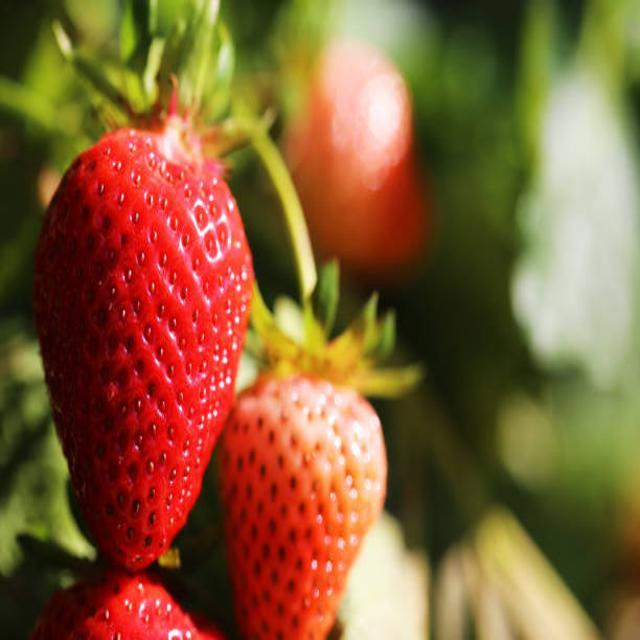Saludable: (35, 120, 254, 568), (222, 366, 388, 640)
